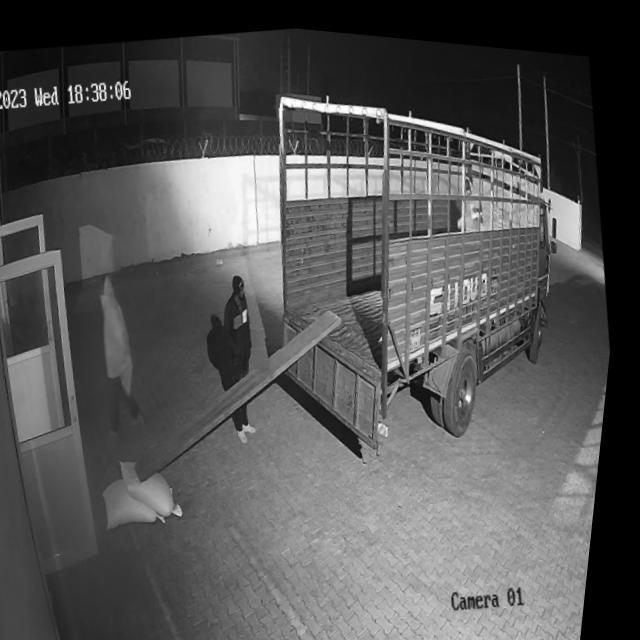sack: (123, 444, 196, 521), (106, 465, 180, 529)
